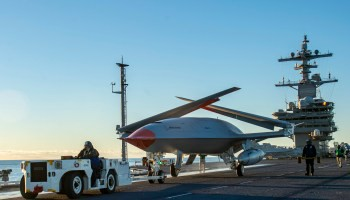maybay_khongnguoilai: (104, 87, 297, 163)
